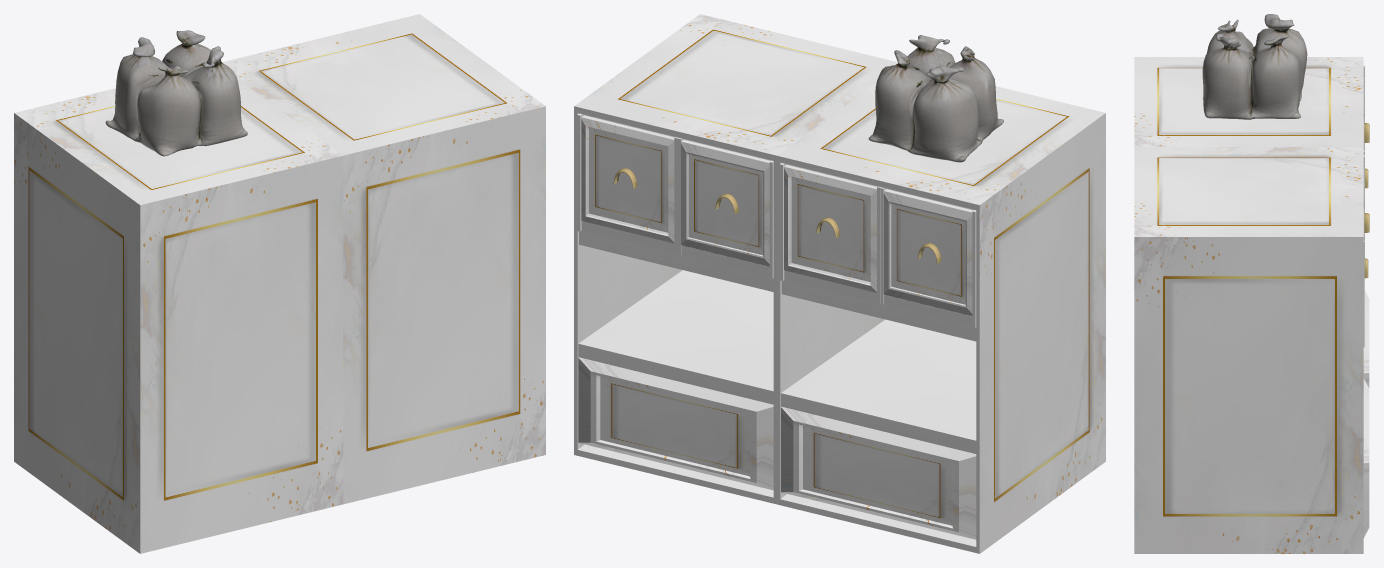
File: Estantes2.obj
3 renders of one model, left to right at view 1: azimuth 30°, elevation 25°; view 2: azimuth 150°, elevation 25°; view 3: azimuth 270°, elevation 25°, orthographic. The views are drawn at different scales.
Visible parts, largest first — view 1: Estantes2; view 2: Estantes2; view 3: Estantes2.
Part boxes in pixels (x1,y1,x2,y2): Estantes2: (14,14,545,553); Estantes2: (574,14,1105,553); Estantes2: (1134,14,1369,553).
Size of the model in its own units: 7.85 by 8 by 4.33.
3 materials, 3 textured.
